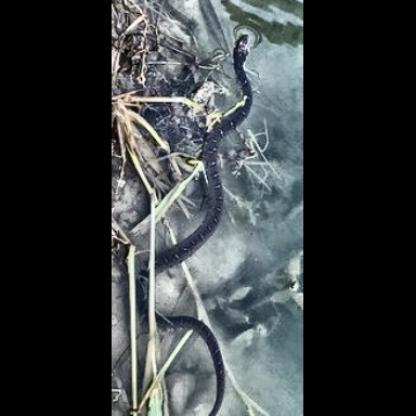Snake: (200, 29, 257, 244)
